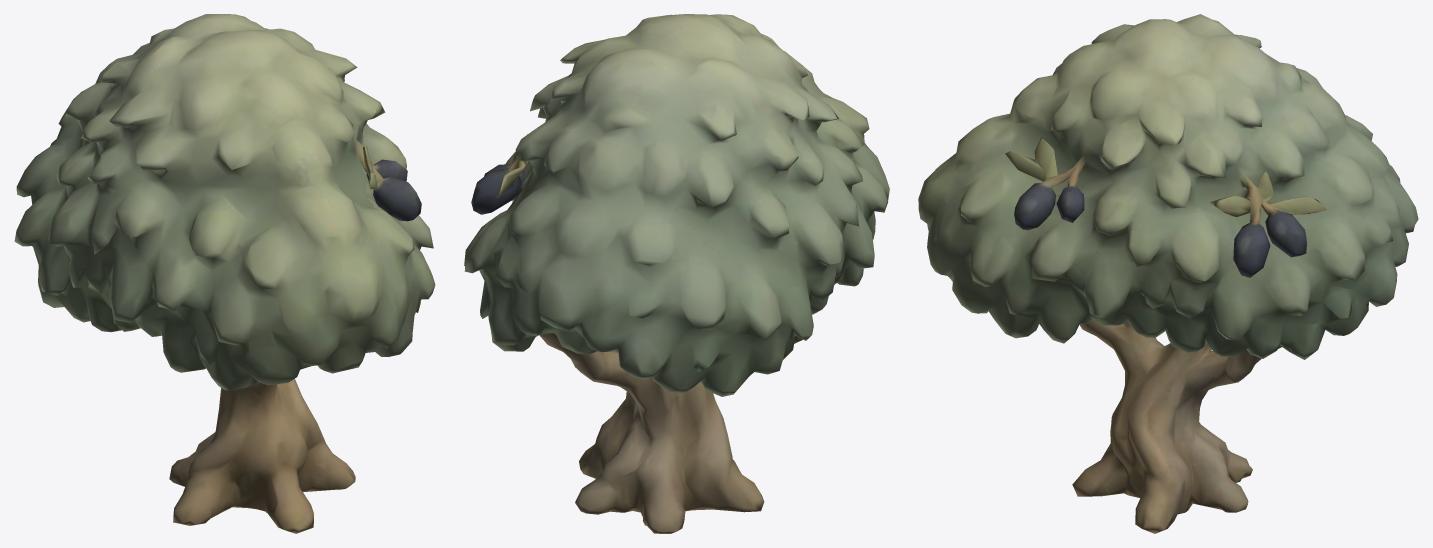
File: olive2.glb
3 views of the same model, side by side, from view 1: azimuth 30°, elevation 25°; view 2: azimuth 150°, elevation 25°; view 3: azimuth 270°, elevation 25° (orthographic). The views are drawn at different scales.
Visible parts, largest first — view 1: tripo_node_63be6c5e-c09a-42f6-a7d9-c2d96127265e; view 2: tripo_node_63be6c5e-c09a-42f6-a7d9-c2d96127265e; view 3: tripo_node_63be6c5e-c09a-42f6-a7d9-c2d96127265e.
Part boxes in pixels (x1,y1,x2,y2): tripo_node_63be6c5e-c09a-42f6-a7d9-c2d96127265e: (14,14,435,533); tripo_node_63be6c5e-c09a-42f6-a7d9-c2d96127265e: (464,14,889,533); tripo_node_63be6c5e-c09a-42f6-a7d9-c2d96127265e: (918,14,1418,533).
Size of the model in its own units: 0.7467 by 1 by 0.9991.
1 material, 1 textured.
